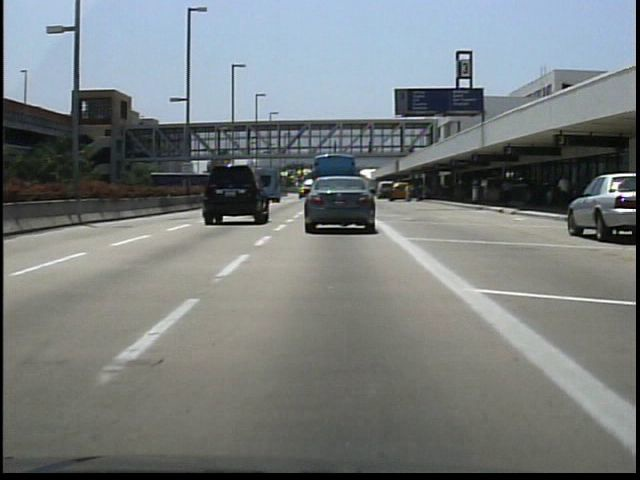person: (498, 175, 516, 211), (556, 170, 572, 204), (402, 179, 418, 206), (365, 138, 378, 160), (330, 136, 343, 156)
